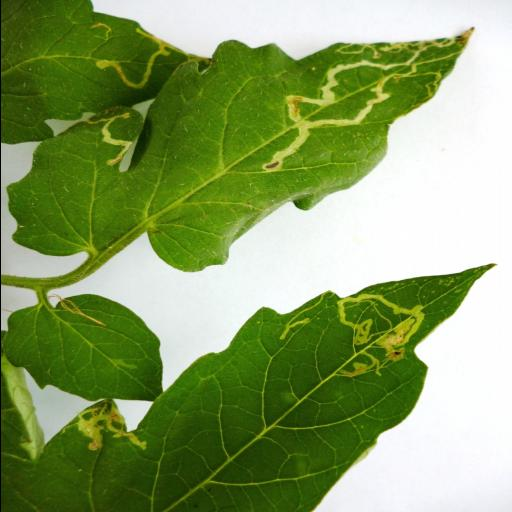disease_tomato: (27, 262, 498, 512), (5, 26, 479, 274)
